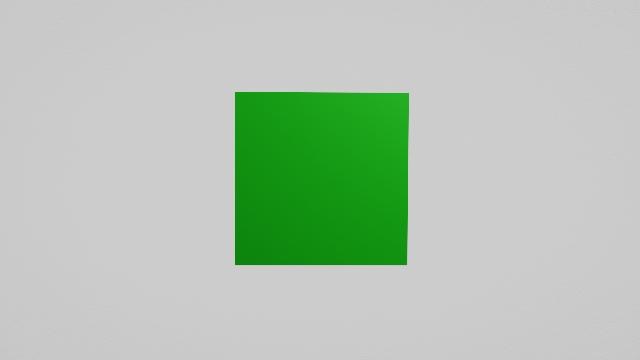Cube: (232, 85, 413, 284)
